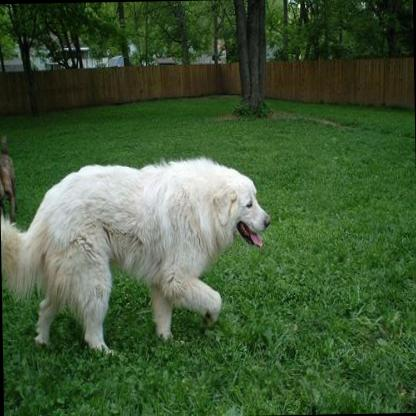Great_Pyrenees: (0, 150, 275, 358)
